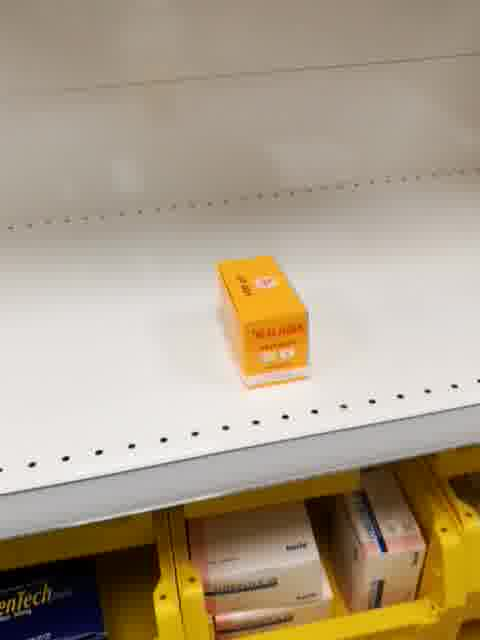jasminetea: (214, 255, 310, 389)
